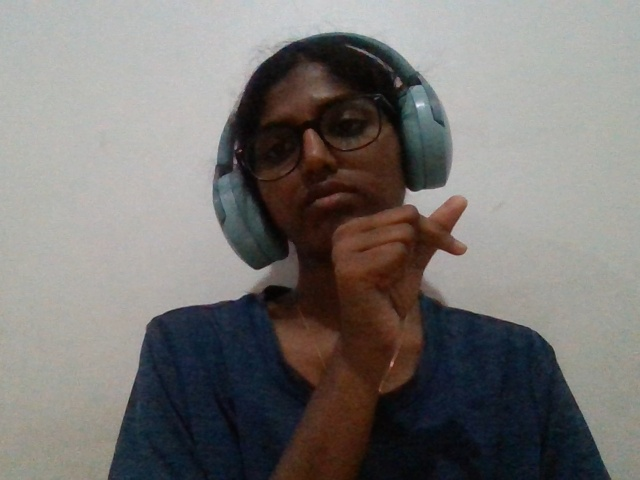G: (292, 181, 497, 396)
